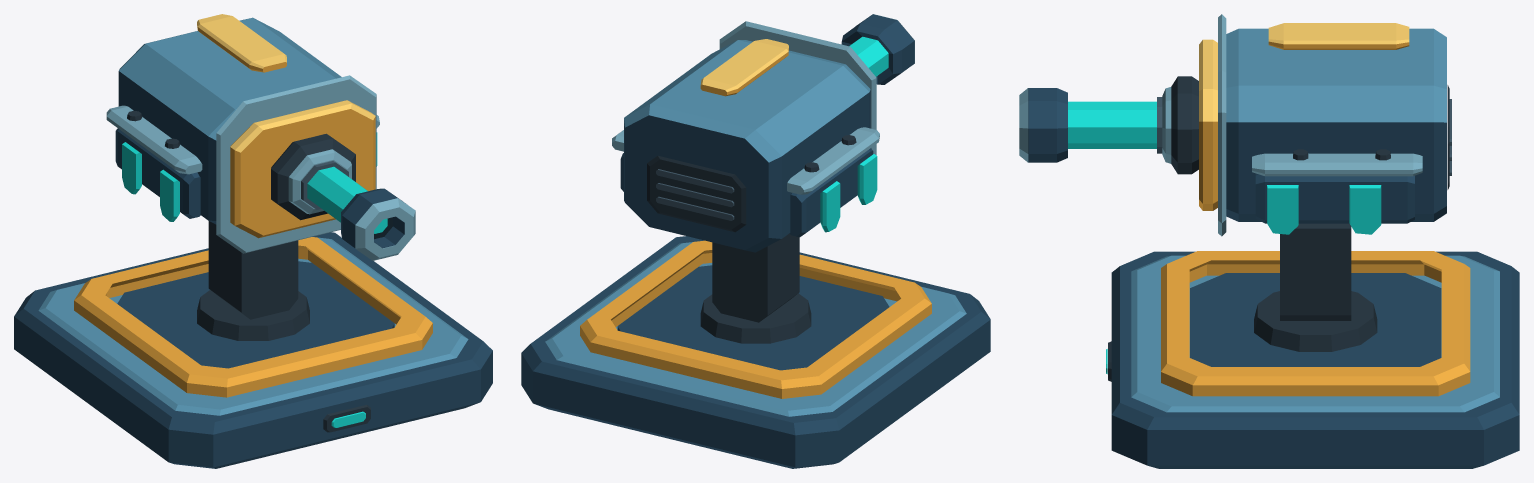
Rendered from LaserLevel2.obj.
3 renders of one model, left to right at view 1: azimuth 30°, elevation 25°; view 2: azimuth 150°, elevation 25°; view 3: azimuth 270°, elevation 25°, orthographic. The views are drawn at different scales.
Parts seen in each view (by area): view 1: SquareFoundation, GoldPlatformRing, InnerDeck, UpperDeck, GoldFaceBody, FaceGasket, ArmorTop, Support, ArmorBevel, ArmorBody, Bearing, EmitterBase (+12 smaller); view 2: SquareFoundation, GoldPlatformRing, ArmorBody, InnerDeck, UpperDeck, ArmorBevel, ArmorTop, Support, RearInset, Bearing, FaceGasket, Muzzle (+9 smaller); view 3: SquareFoundation, GoldPlatformRing, InnerDeck, UpperDeck, ArmorBody, ArmorBevel, ArmorTop, Support, SideArmorR, Bearing, EnergyRod, RailR (+12 smaller).
Part boxes in pixels (bbox=[...]): SquareFoundation: bbox=[14, 232, 492, 468]; GoldPlatformRing: bbox=[74, 237, 432, 397]; InnerDeck: bbox=[117, 261, 394, 368]; UpperDeck: bbox=[38, 237, 468, 415]; GoldFaceBody: bbox=[230, 109, 375, 238]; FaceGasket: bbox=[216, 75, 376, 253]; ArmorTop: bbox=[146, 17, 335, 109]; Support: bbox=[208, 221, 298, 319]; ArmorBevel: bbox=[119, 18, 341, 140]; ArmorBody: bbox=[118, 71, 216, 224]; Bearing: bbox=[197, 290, 309, 340]; EmitterBase: bbox=[271, 133, 355, 220]; SquareFoundation: bbox=[521, 236, 990, 468]; GoldPlatformRing: bbox=[580, 240, 931, 398]; ArmorBody: bbox=[624, 90, 870, 252]; InnerDeck: bbox=[617, 265, 889, 370]; UpperDeck: bbox=[545, 242, 966, 416]; ArmorBevel: bbox=[624, 40, 870, 162]; ArmorTop: bbox=[650, 40, 842, 129]; Support: bbox=[712, 233, 799, 322]; RearInset: bbox=[647, 156, 746, 232]; Bearing: bbox=[700, 293, 811, 343]; FaceGasket: bbox=[719, 21, 876, 155]; Muzzle: bbox=[841, 14, 914, 84]; SquareFoundation: bbox=[1111, 251, 1519, 468]; GoldPlatformRing: bbox=[1161, 251, 1470, 396]; InnerDeck: bbox=[1190, 273, 1441, 366]; UpperDeck: bbox=[1131, 255, 1499, 412]; ArmorBody: bbox=[1226, 122, 1446, 221]; ArmorBevel: bbox=[1226, 29, 1446, 122]; ArmorTop: bbox=[1238, 28, 1433, 85]; Support: bbox=[1280, 223, 1351, 320]; SideArmorR: bbox=[1255, 173, 1414, 223]; Bearing: bbox=[1254, 291, 1377, 351]; EnergyRod: bbox=[1068, 101, 1156, 148]; RailR: bbox=[1252, 153, 1422, 176].
Bounding box in the file's own units: 2.18 × 2.1 × 2.67.
